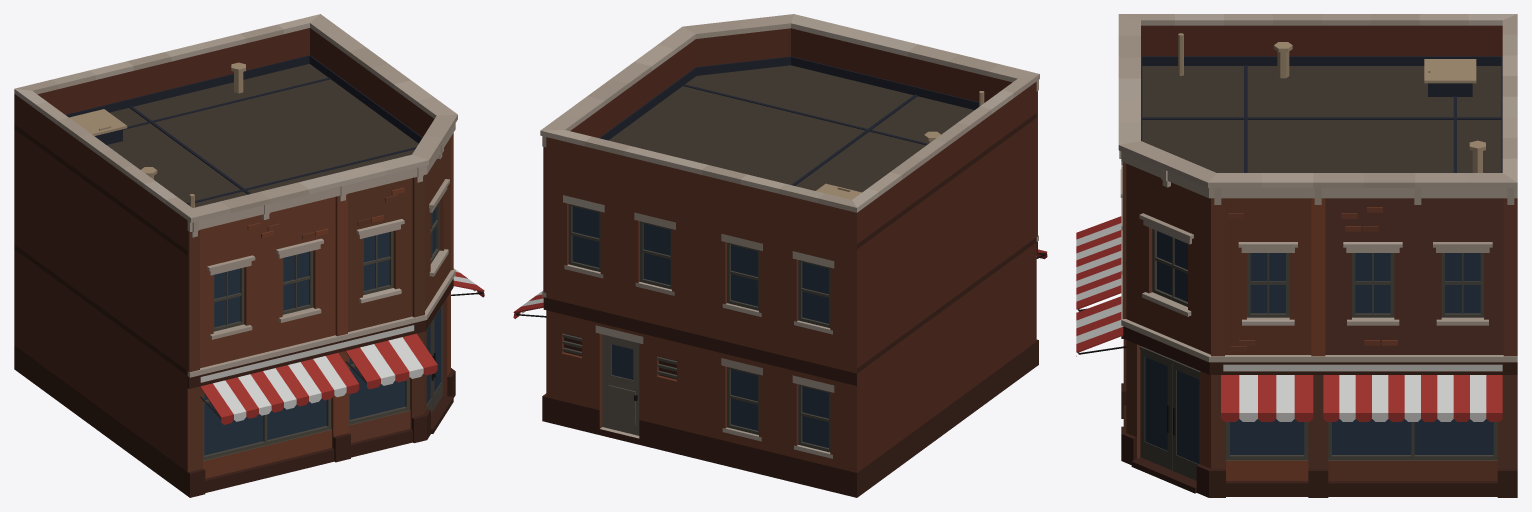
File: shop.glb
3 renders of one model, left to right at view 1: azimuth 30°, elevation 25°; view 2: azimuth 150°, elevation 25°; view 3: azimuth 270°, elevation 25°, orthographic. The views are drawn at different scales.
Visible parts, largest first — view 1: corner-shop-body, awnings-canvas, door-right-leaf, roof-hatch-lid; view 2: corner-shop-body; view 3: corner-shop-body, awnings-canvas, door-left-leaf, door-right-leaf, roof-hatch-lid.
Part boxes in pixels (box(x1,y1,x2,y2)): corner-shop-body: box(14, 14, 457, 497); awnings-canvas: box(200, 268, 484, 424); door-right-leaf: box(432, 304, 442, 410); roof-hatch-lid: box(69, 109, 127, 135); corner-shop-body: box(540, 14, 1039, 497); corner-shop-body: box(1118, 14, 1517, 497); awnings-canvas: box(1076, 216, 1502, 421); door-left-leaf: box(1140, 350, 1172, 470); door-right-leaf: box(1172, 363, 1200, 480); roof-hatch-lid: box(1424, 59, 1476, 83).
Size of the model in its own units: 8.85 by 7 by 8.85.
